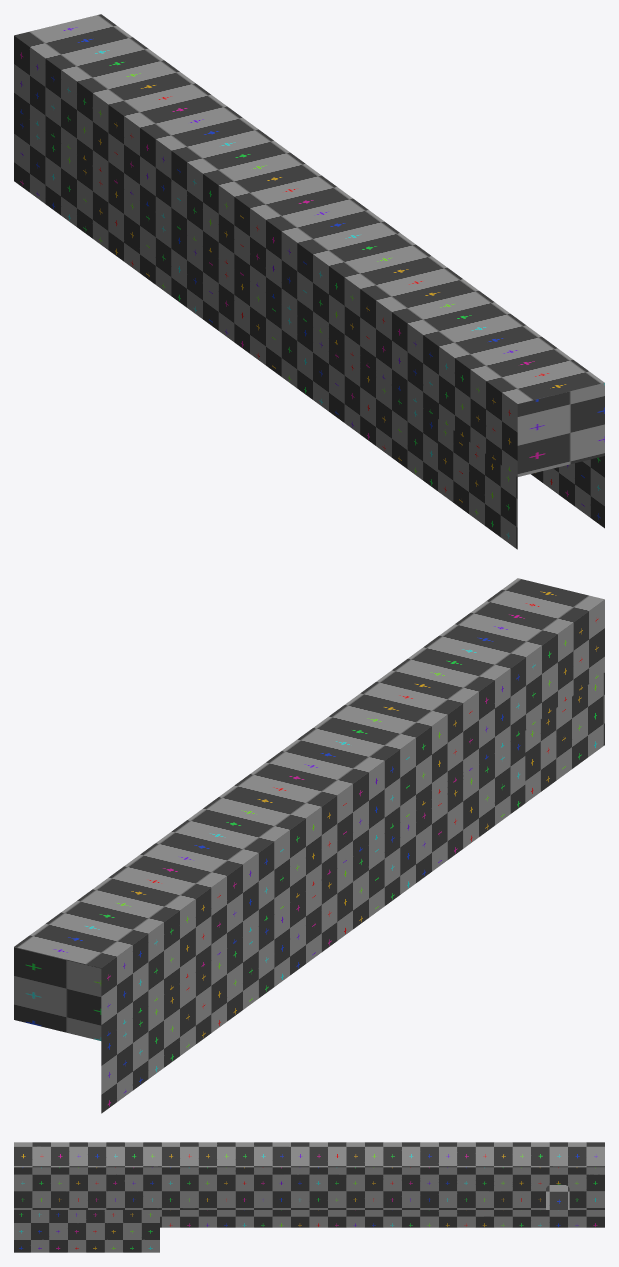
Rendered from scenario_prototype_interior_floor_02_middle.fbx.
The picture shows the model from 3 angles, top to bottom: view 1: azimuth 30°, elevation 25°; view 2: azimuth 150°, elevation 25°; view 3: azimuth 270°, elevation 25°; orthographic projection. The views are drawn at different scales.
Visible parts, largest first — view 1: interior_floor02_middle; view 2: interior_floor02_middle; view 3: interior_floor02_middle.
Boxes of the visible parts, x1=… form: interior_floor02_middle: x1=14, y1=14, x2=604, y2=549; interior_floor02_middle: x1=14, y1=578, x2=604, y2=1113; interior_floor02_middle: x1=14, y1=1142, x2=604, y2=1252.
Size of the model in its own units: 500 by 798 by 5000.
